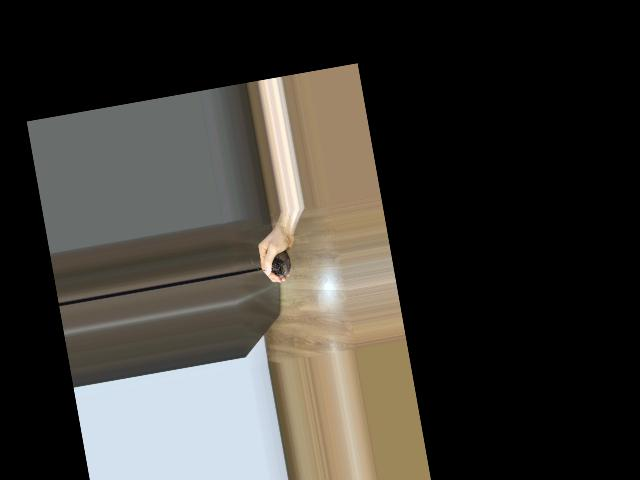beet: (250, 249, 293, 283)
